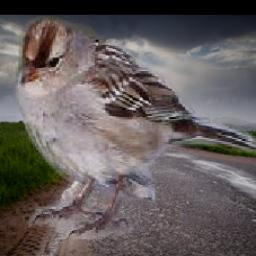Sparrow: (7, 16, 256, 239)
